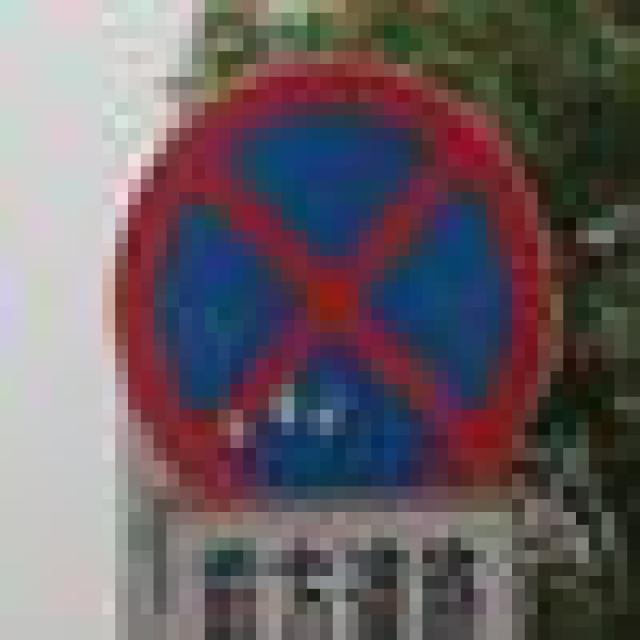no stopping or standing: (103, 53, 546, 549)
